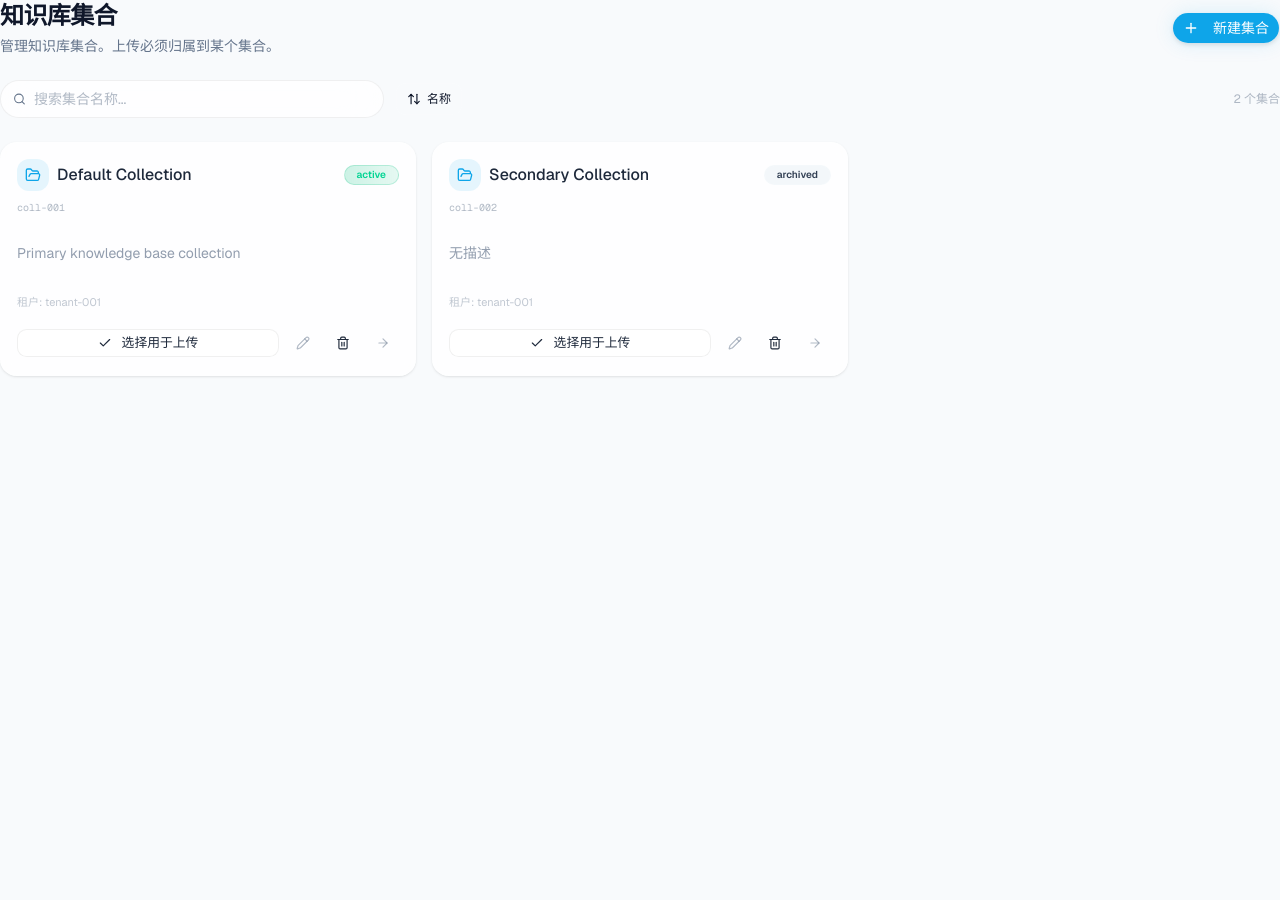
Test case: CollectionsPage › opens the create dialog when clicking the create button
The image size is (1280, 900).
Click the button "新建集合".
click(1226, 28)  # box [1172,12,1279,44]
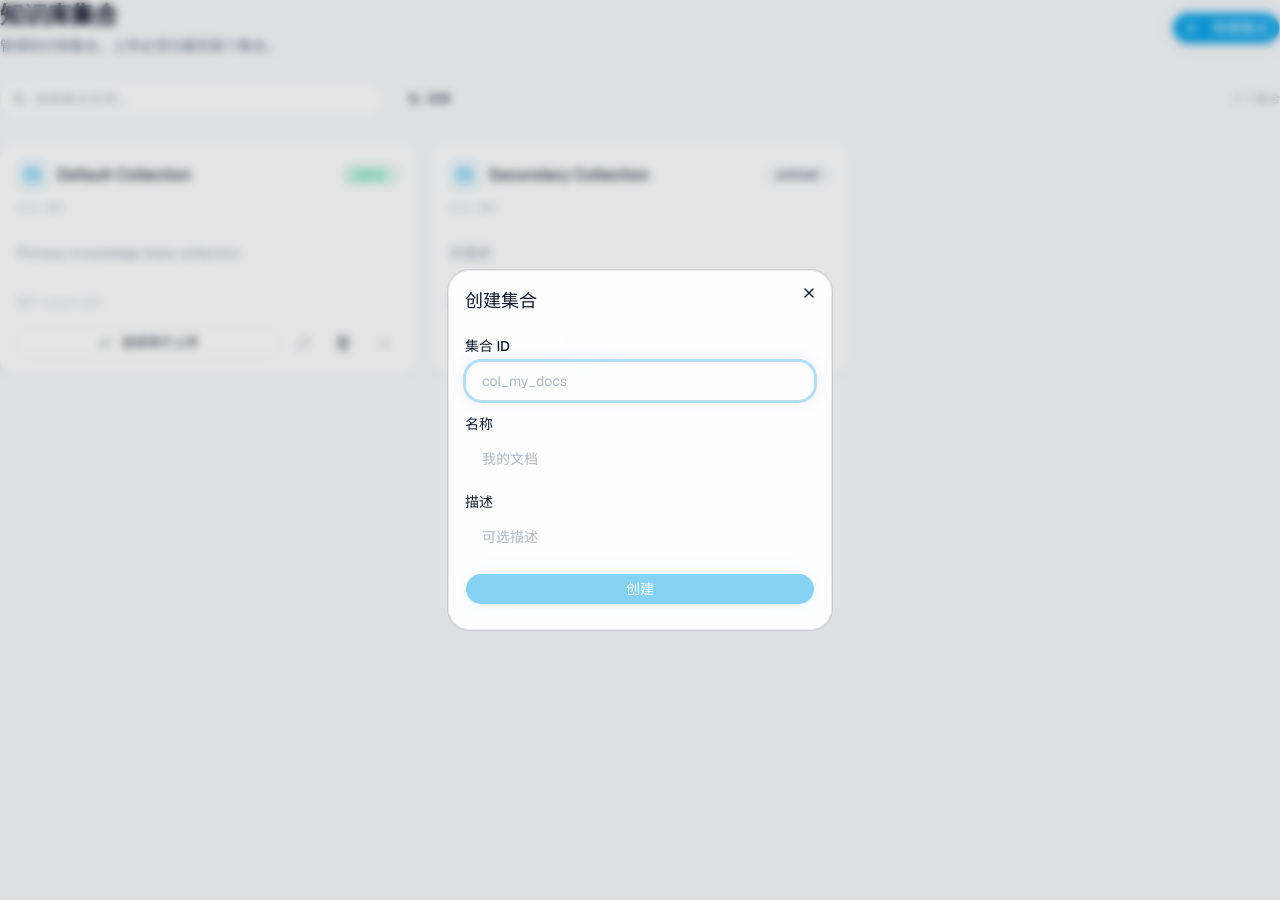
Check: the heading "创建集合" is shown, box [465,289,537,312]
Check: the field labelled "集合 ID" is shown, box [465,361,815,401]
Check: the field labelled "名称" is shown, box [465,439,815,479]
